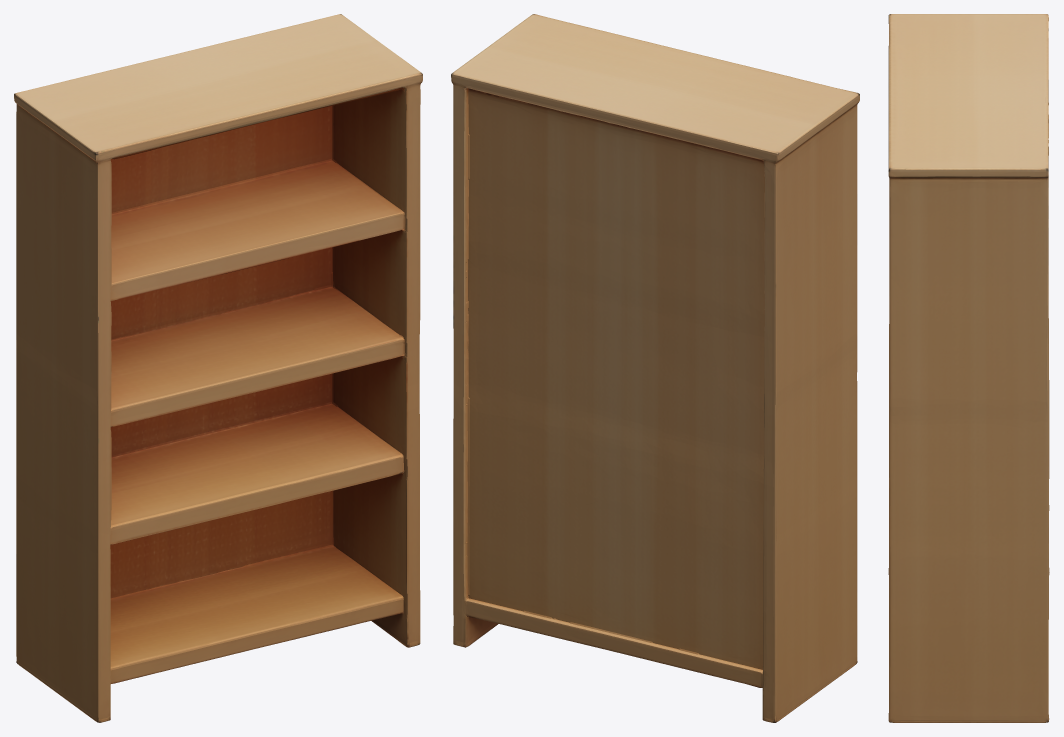
Rendered from bookshelf.glb.
3 renders of one model, left to right at view 1: azimuth 30°, elevation 25°; view 2: azimuth 150°, elevation 25°; view 3: azimuth 270°, elevation 25°, orthographic. The views are drawn at different scales.
Visible parts, largest first — view 1: world; view 2: world; view 3: world.
Boxes of the visible parts, <box> form: world: <box>14,14,422,722</box>; world: <box>451,14,859,722</box>; world: <box>888,14,1049,722</box>.
Bounding box in the file's own units: 0.6007 × 1 × 0.263.
1 material, 1 textured.
